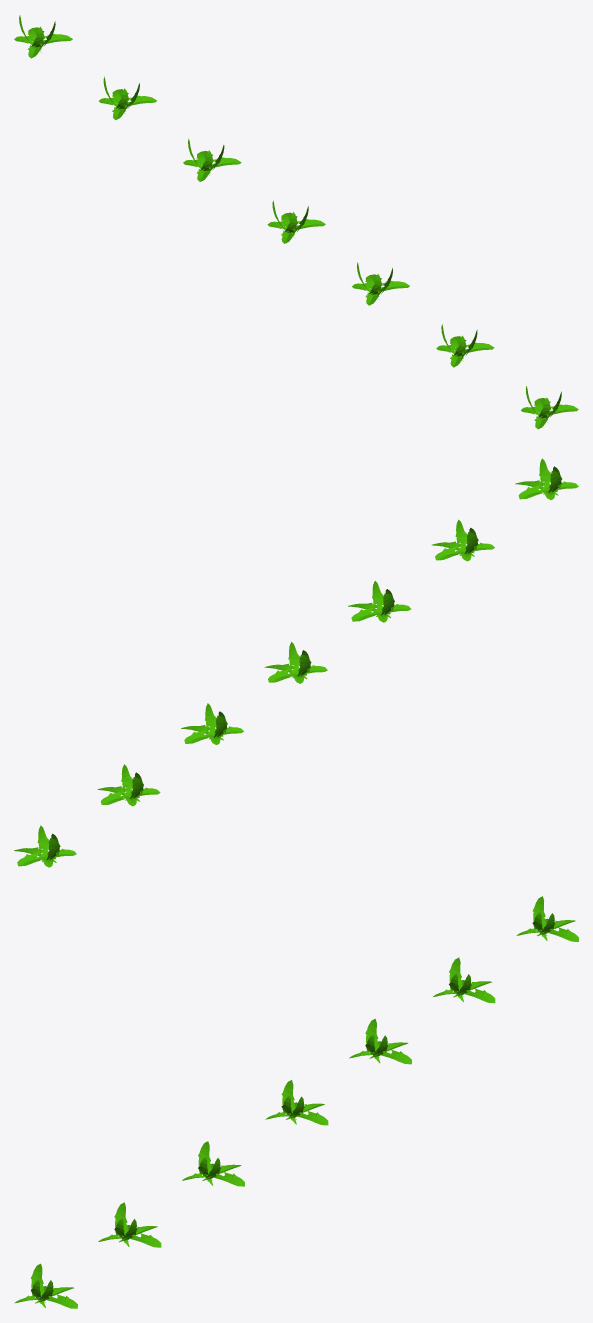
The model's file is plant_single.dae.
3 renders of one model, top to bottom at view 1: azimuth 30°, elevation 25°; view 2: azimuth 150°, elevation 25°; view 3: azimuth 330°, elevation 25°, orthographic.
Visible parts, largest first — view 1: plant_single_row; view 2: plant_single_row; view 3: plant_single_row.
Boxes of the visible parts, x1,y1,x2,y2 form: plant_single_row: (14,15,578,429); plant_single_row: (14,458,578,867); plant_single_row: (14,896,578,1308).
Bounding box in the file's own units: 0.411 × 7.24 × 0.2628.
